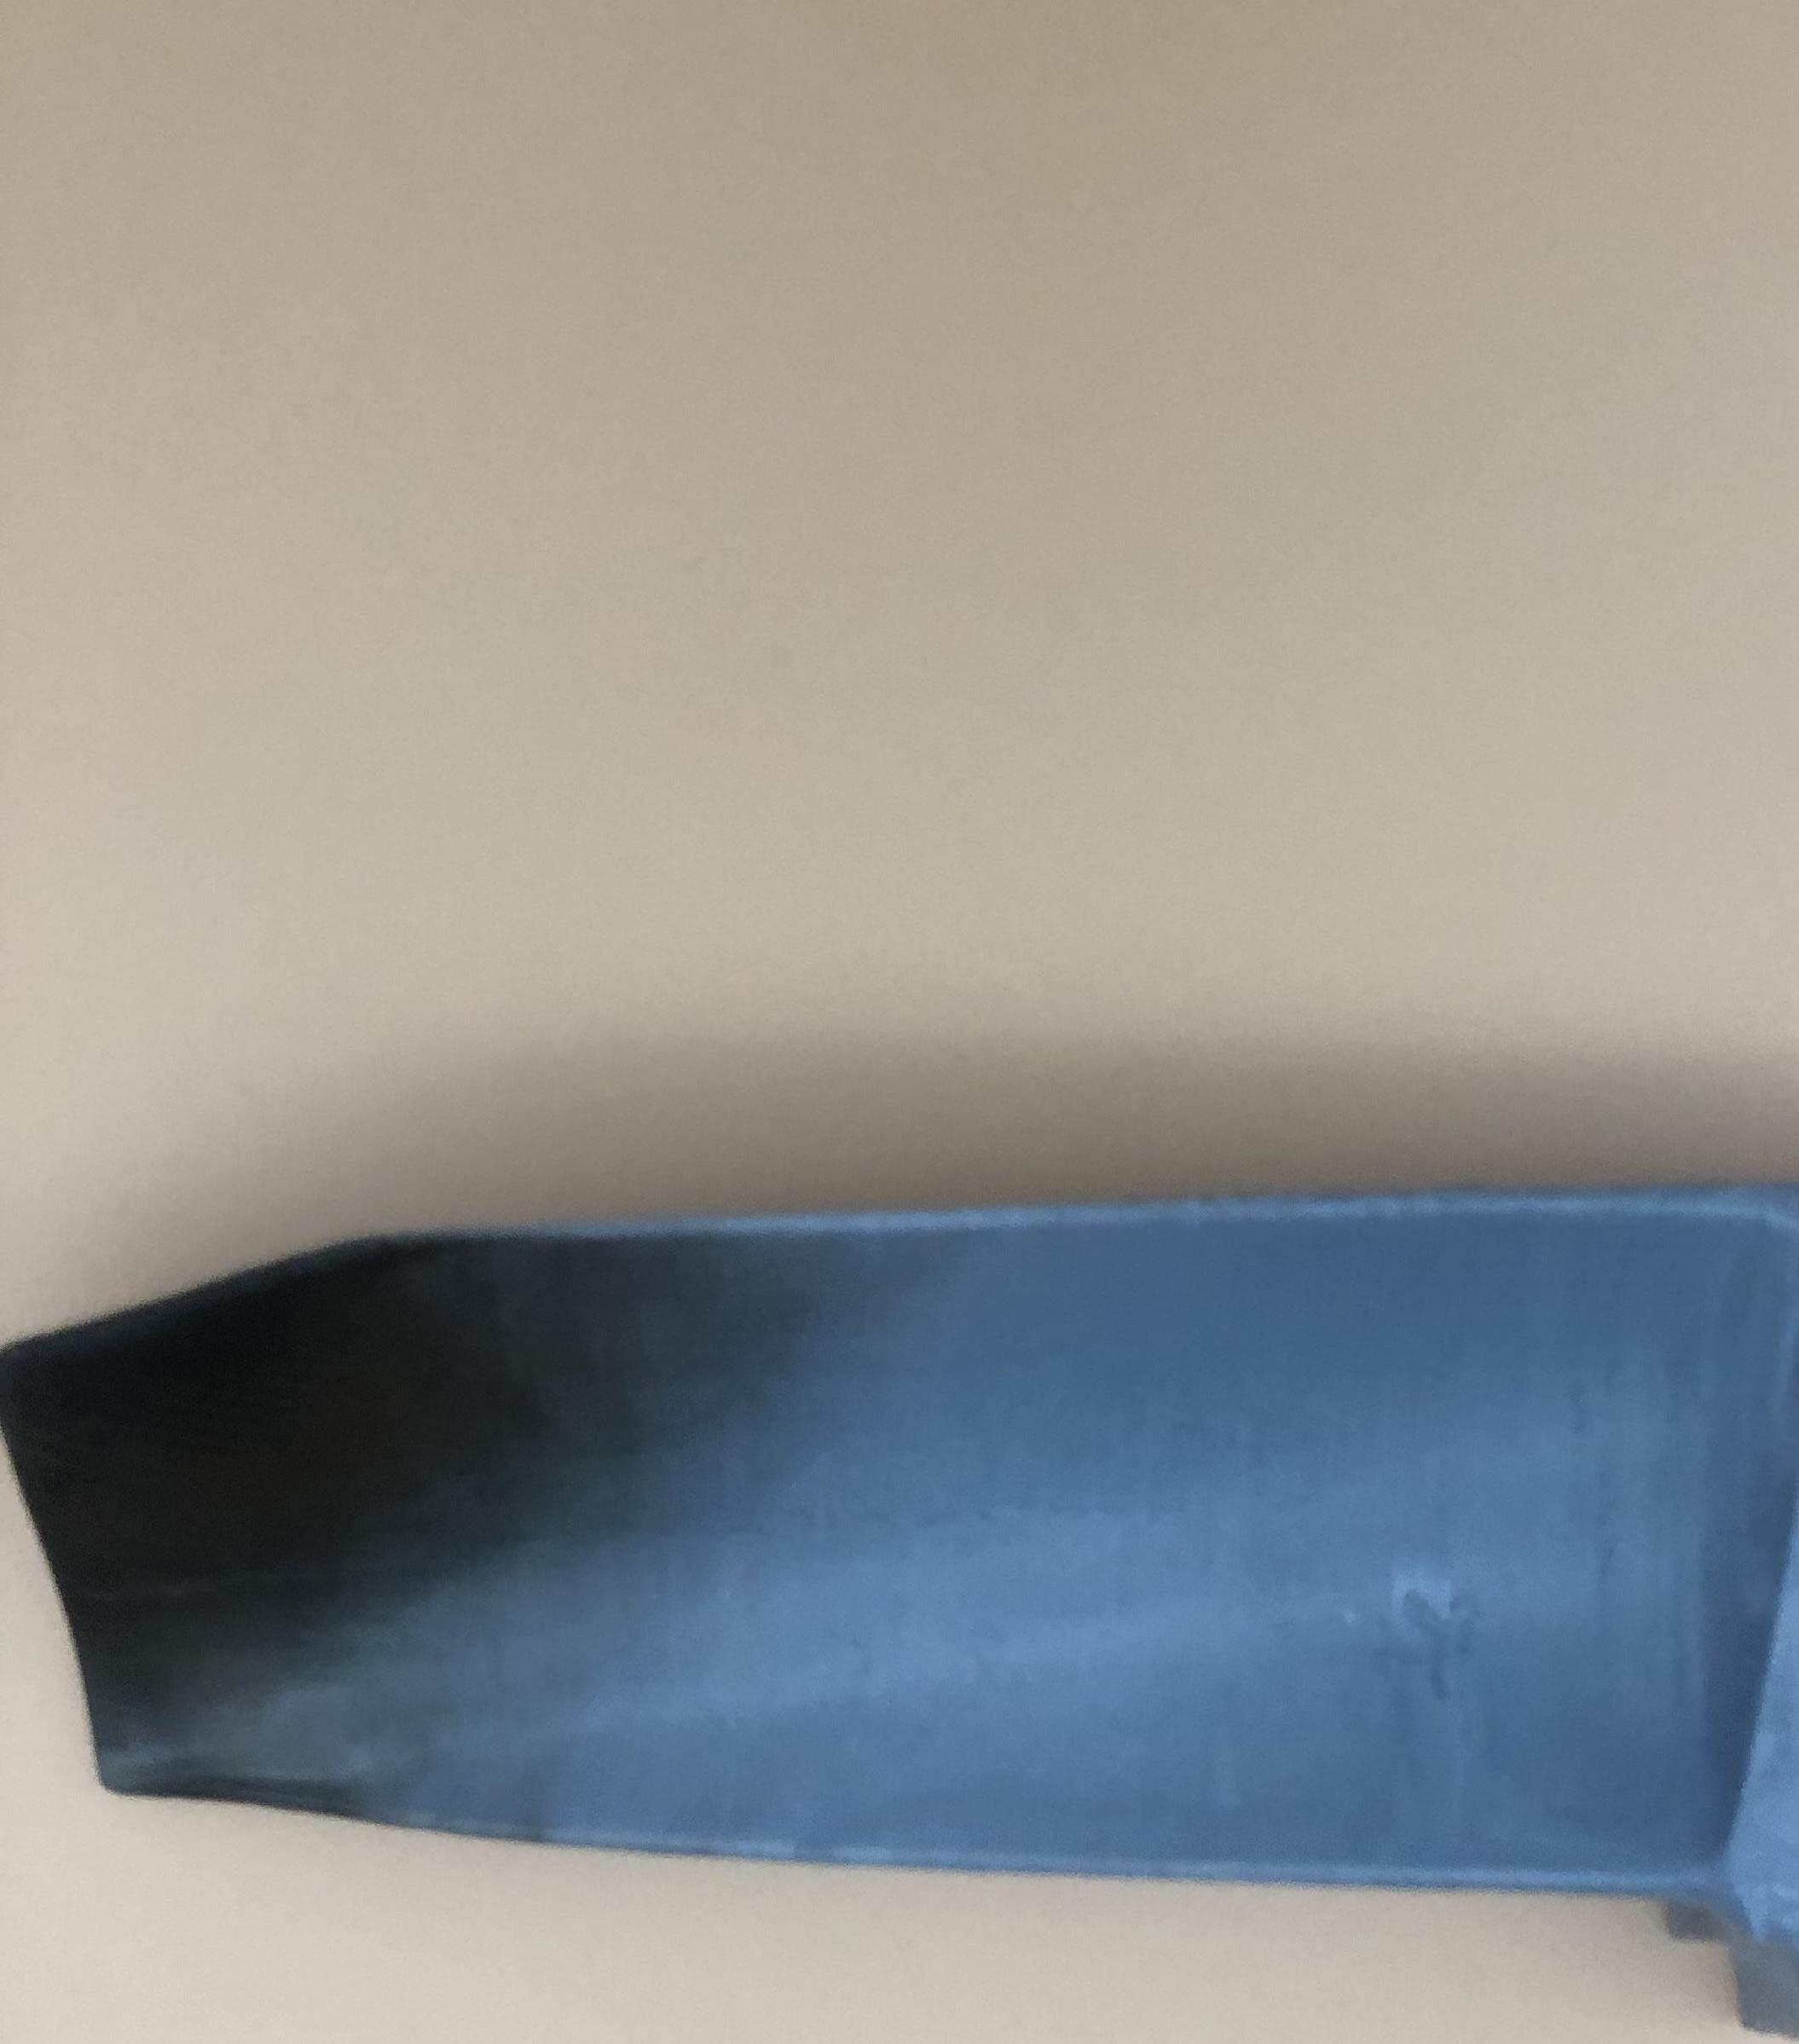ablation: (28, 1304, 666, 1653)
